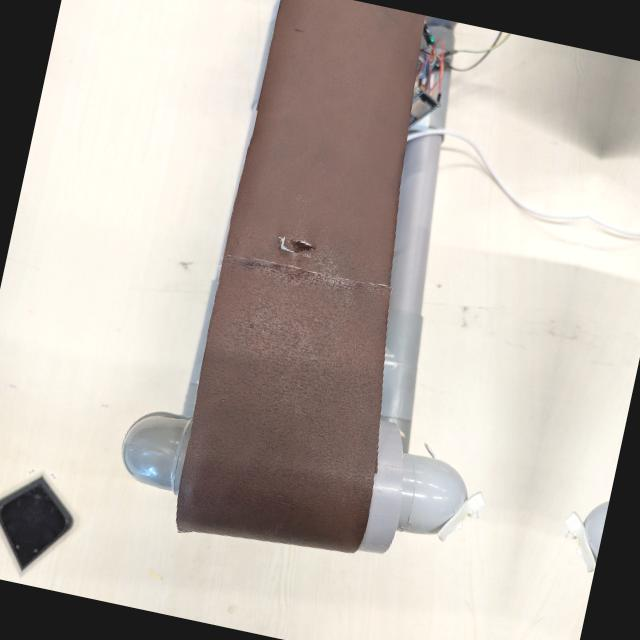joint_damage: (249, 217, 334, 271)
